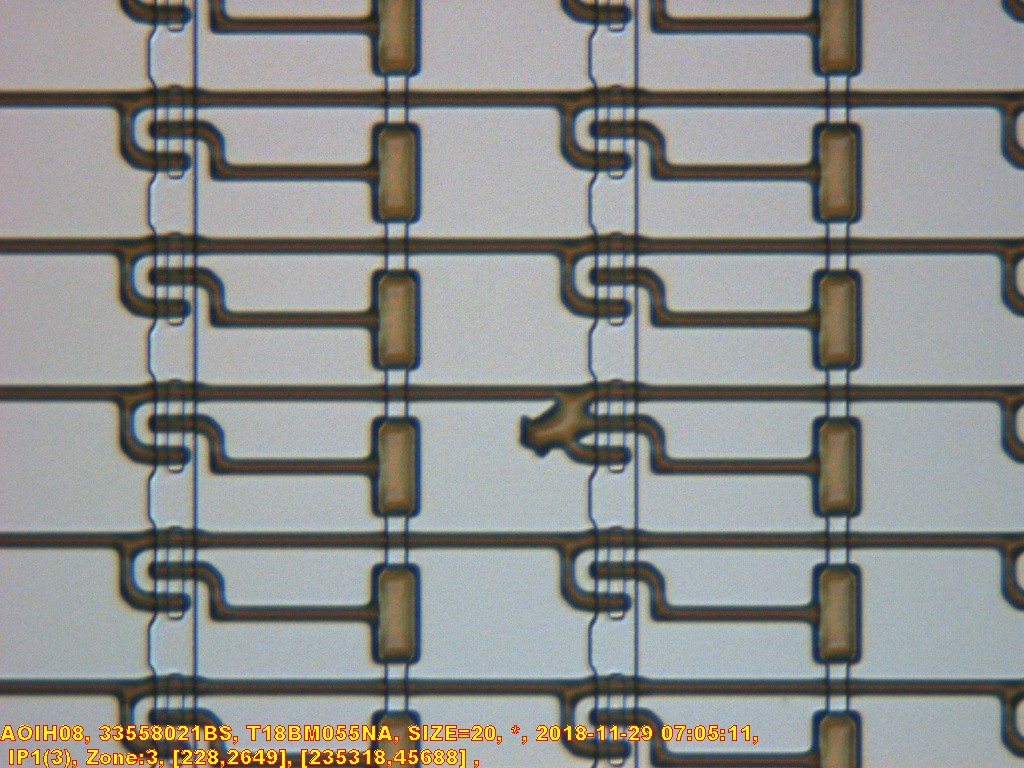PP02-C: (520, 386, 597, 458)
